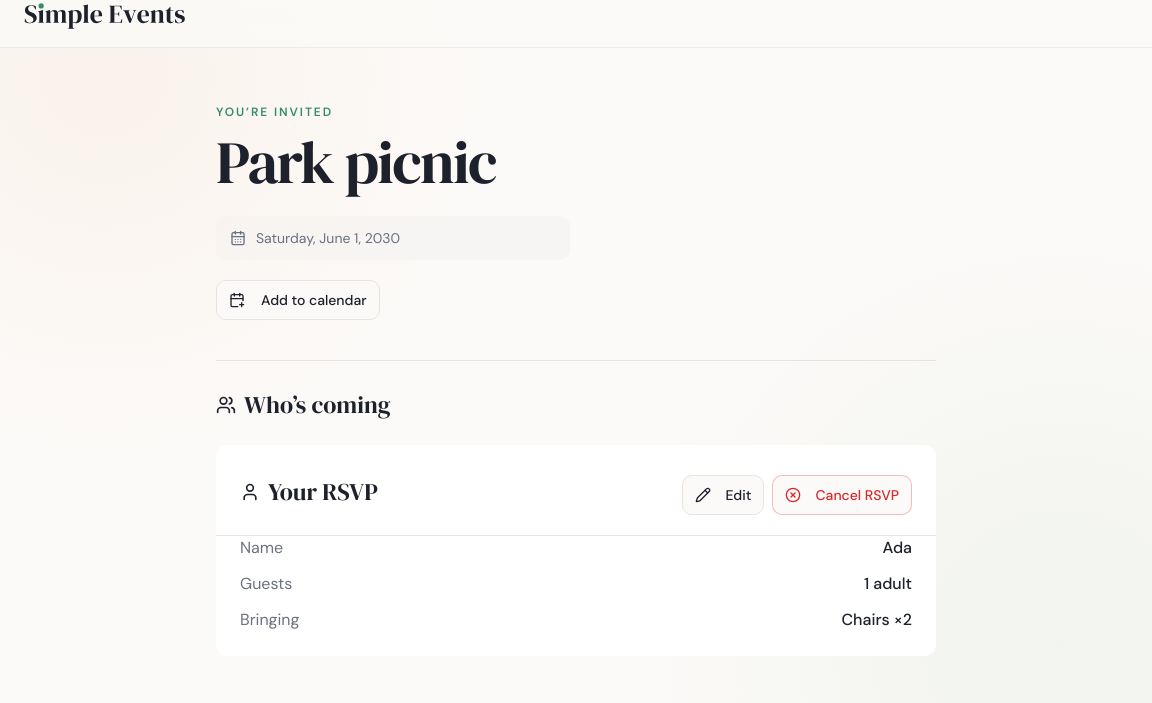
Test: EventPage › lets a guest editing their RSVP keep the slots they already hold
What coordinates should you click on to do the following:
click the button "Edit"
I would click on:
 (723, 495)
Its box is [682, 475, 764, 515].
(page scrolled)
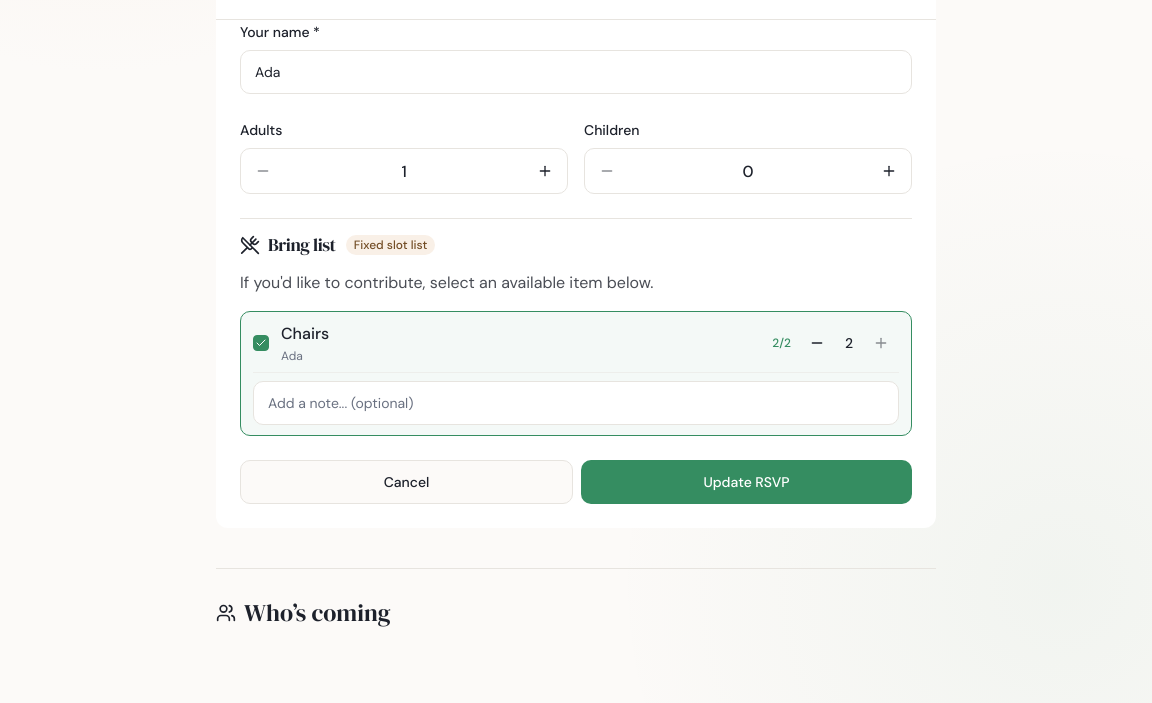
Now the button named "Bring one more Chairs" is disabled, box [863, 325, 899, 361]
What coordinates should you click on to do the following:
click the button named "Bring one fewer Chairs"
I would click on:
 (817, 343)
Its box is [799, 325, 835, 361].
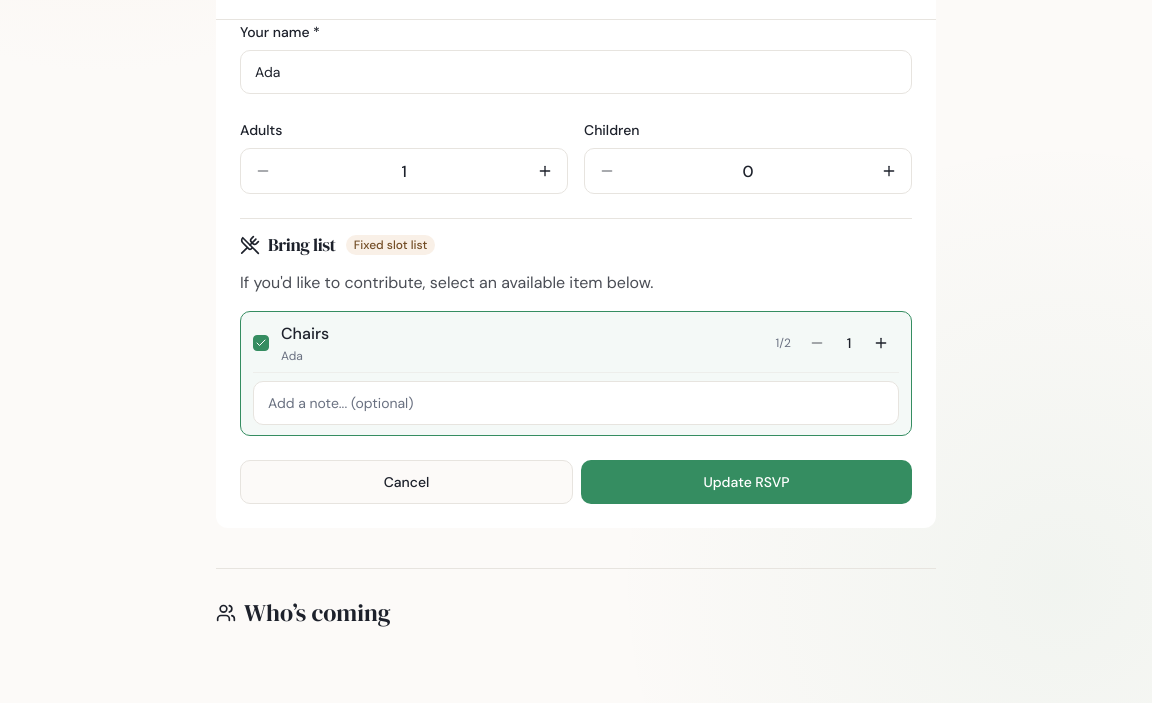
Now the button named "Bring one more Chairs" is enabled, box [863, 325, 899, 361]
